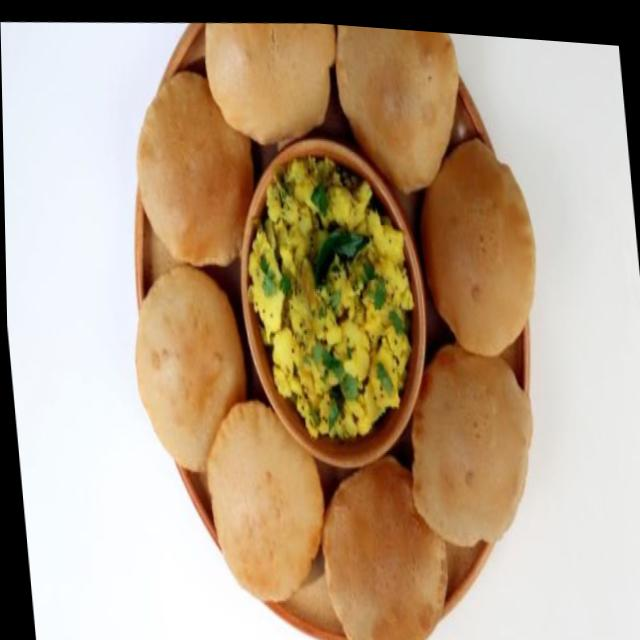CURRY: (247, 156, 416, 440)
POORI: (135, 24, 537, 640)
